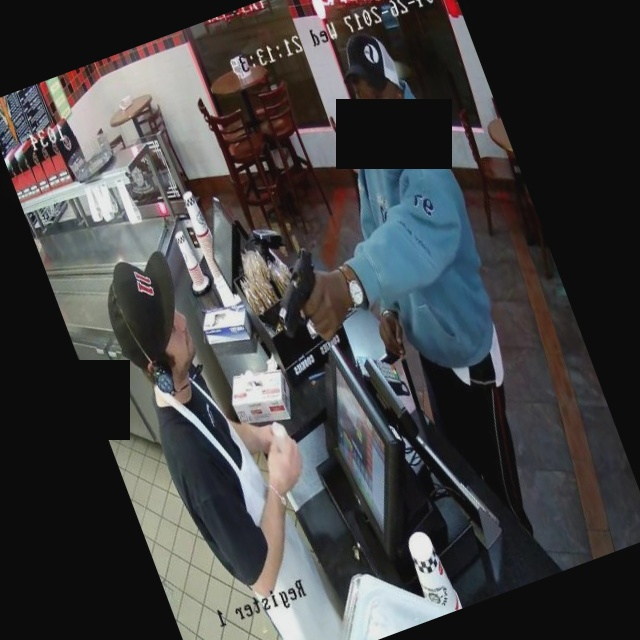gun: (243, 228, 364, 358)
